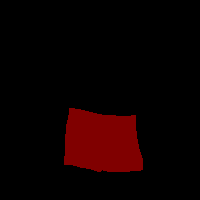mutande: (64, 108, 143, 172)
